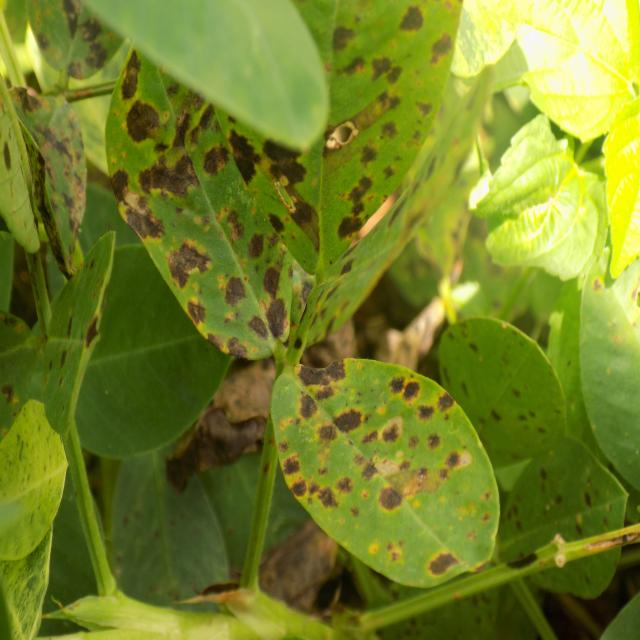Ground nut_tikka leaf spot: (106, 37, 296, 357), (277, 353, 504, 587), (438, 317, 568, 482)
